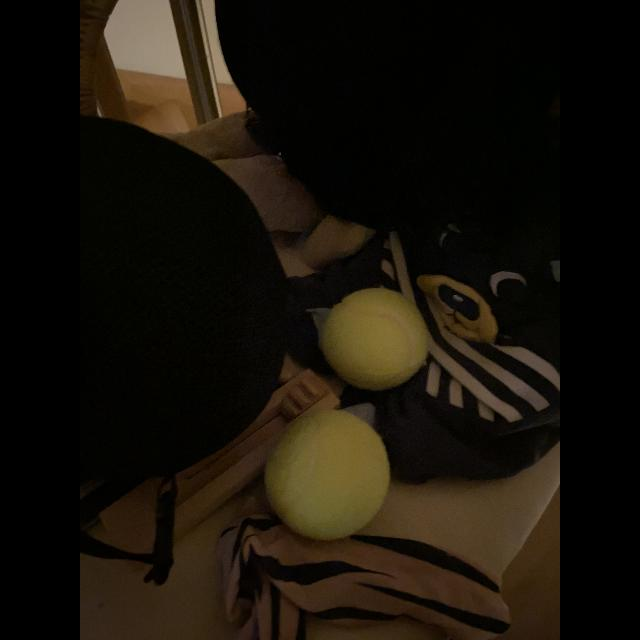Tennisball: (264, 409, 390, 540), (319, 287, 429, 391)
